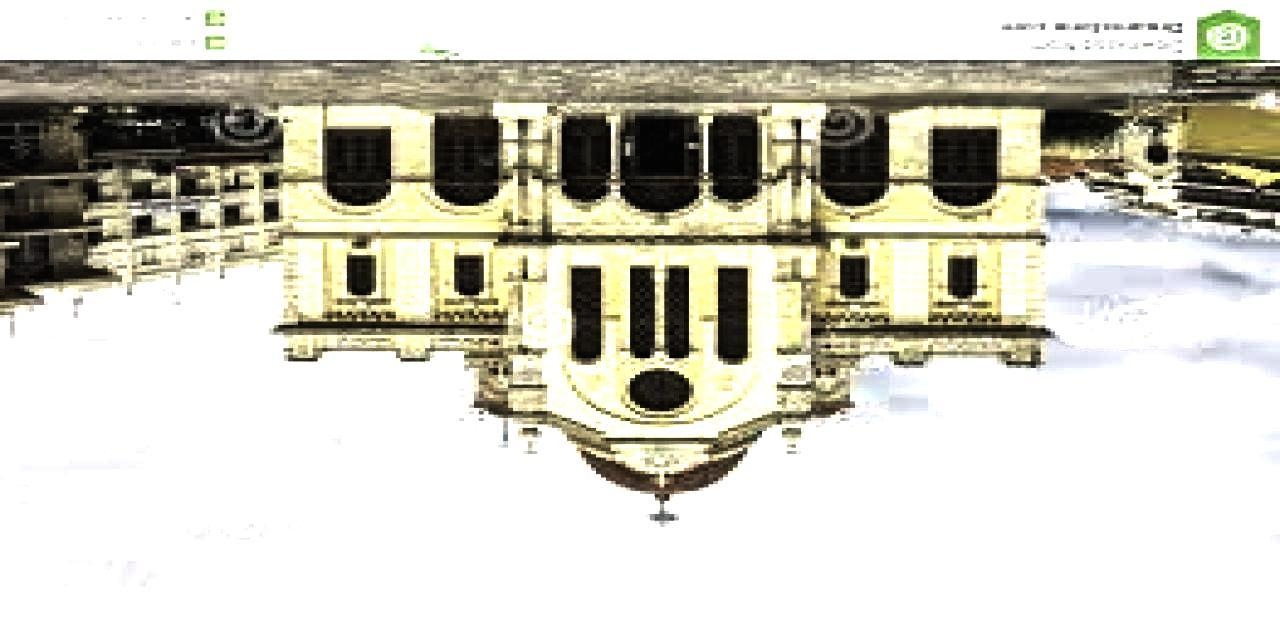Agios Minas: (278, 106, 1054, 531)
